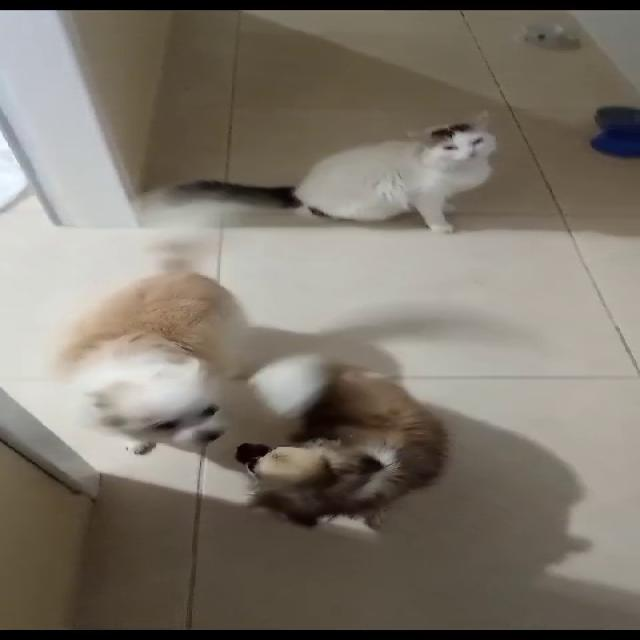Pedrita: (231, 337, 498, 558)
Simba: (249, 86, 573, 256)
Theo: (45, 250, 314, 478)
